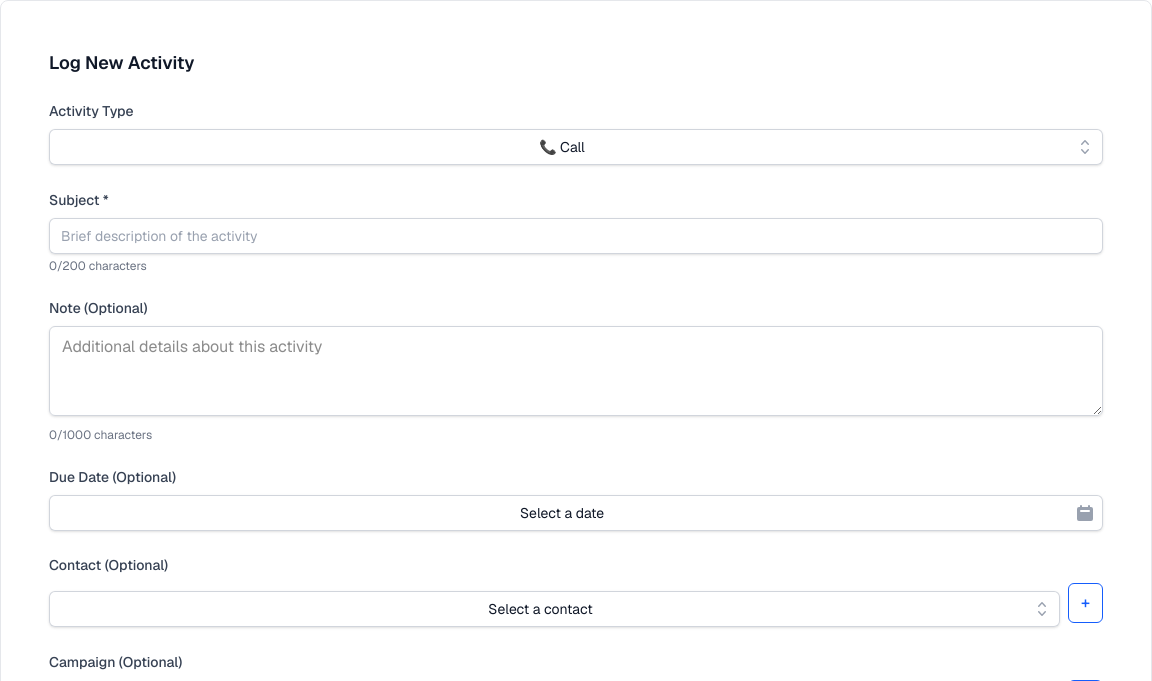
it: ActivityForm › should handle contact creation modal
The image size is (1152, 681).
// Use getAllByText and get the first + button (contact add button)
Click the 1st button "+": [1086, 603] box [1068,583,1103,623]
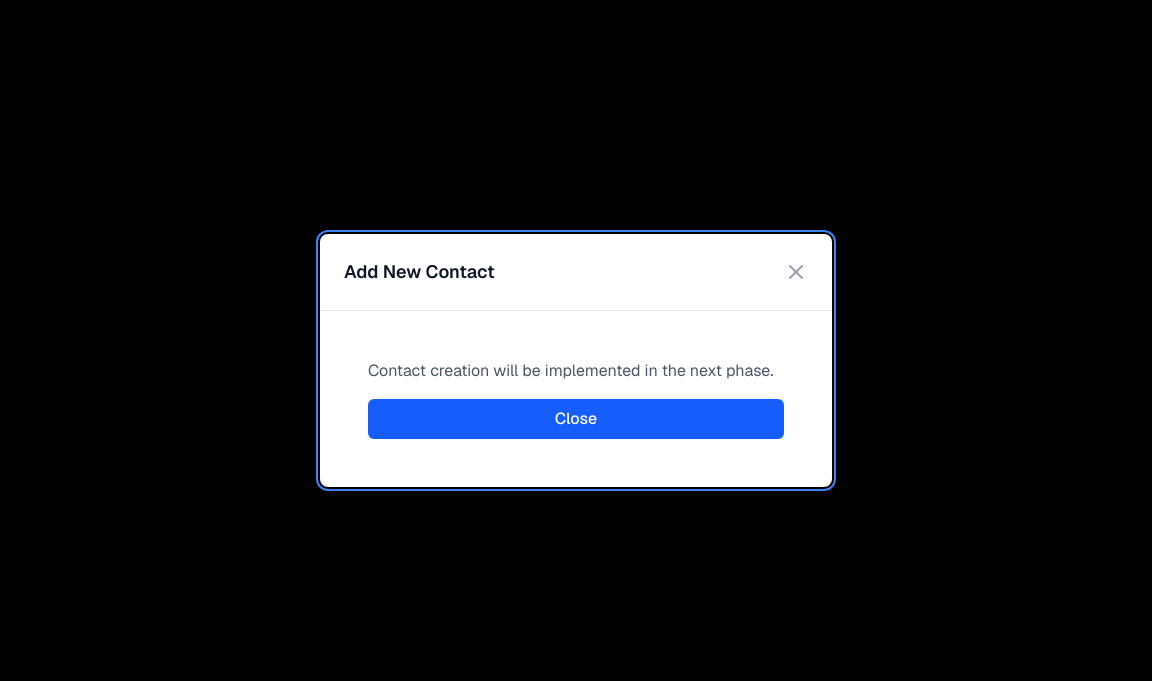
Now the heading "Add New Contact" is shown, box [344,258,495,286]
Now the text "Contact creation will be implemented in the next phase." is shown, box [368,358,784,382]
